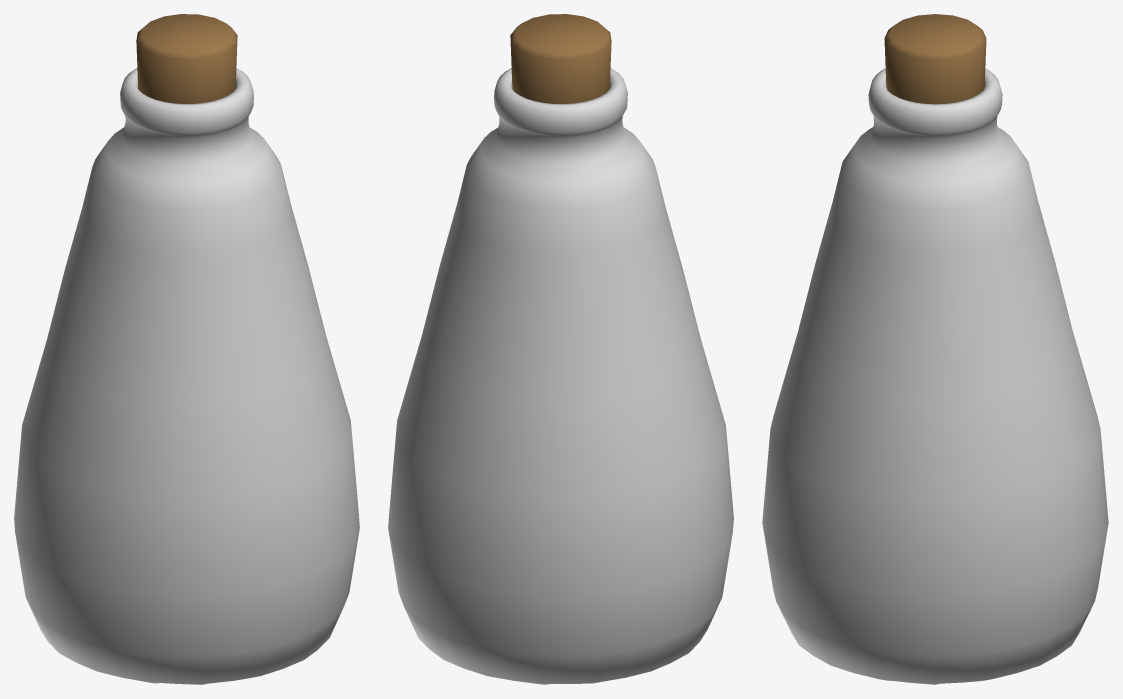
Rendered from Medium.glb.
The picture shows the model from 3 angles, left to right: view 1: azimuth 30°, elevation 25°; view 2: azimuth 150°, elevation 25°; view 3: azimuth 270°, elevation 25°; orthographic projection.
Parts seen in each view (by area): view 1: MediumBottle, MediumCork; view 2: MediumBottle, MediumCork; view 3: MediumBottle, MediumCork.
Part boxes in pixels (x1,y1,x2,y2): MediumBottle: (14, 68, 359, 684); MediumCork: (136, 14, 237, 103); MediumBottle: (388, 68, 733, 684); MediumCork: (510, 14, 611, 103); MediumBottle: (762, 68, 1108, 684); MediumCork: (884, 14, 986, 104).
Bounding box in the file's own units: 3.3 × 6.38 × 3.3.
